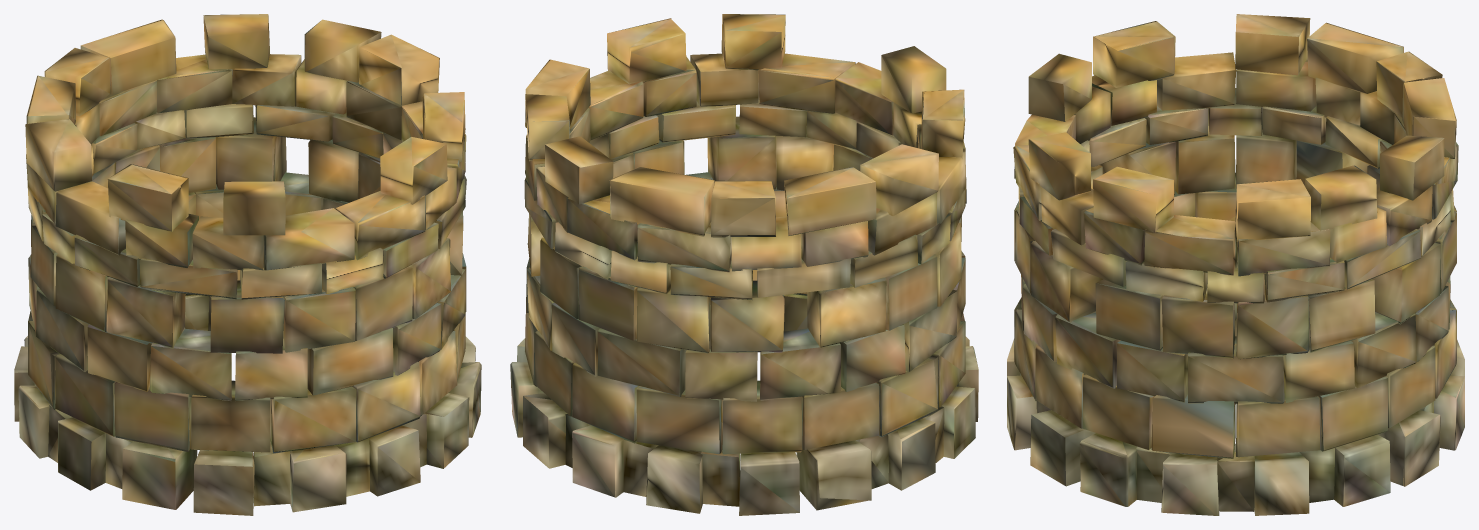
The model's file is tower.lod1.glb.
The picture shows the model from 3 angles, left to right: view 1: azimuth 30°, elevation 25°; view 2: azimuth 150°, elevation 25°; view 3: azimuth 270°, elevation 25°; orthographic projection.
Bounding box in the file's own units: 4 × 3 × 4.
Materials: 1 (1 with a texture image).
